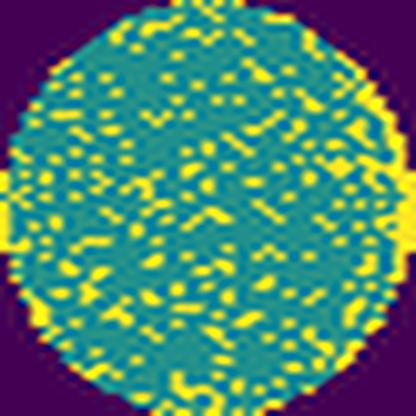Edge-Loc: (334, 57, 416, 285)
